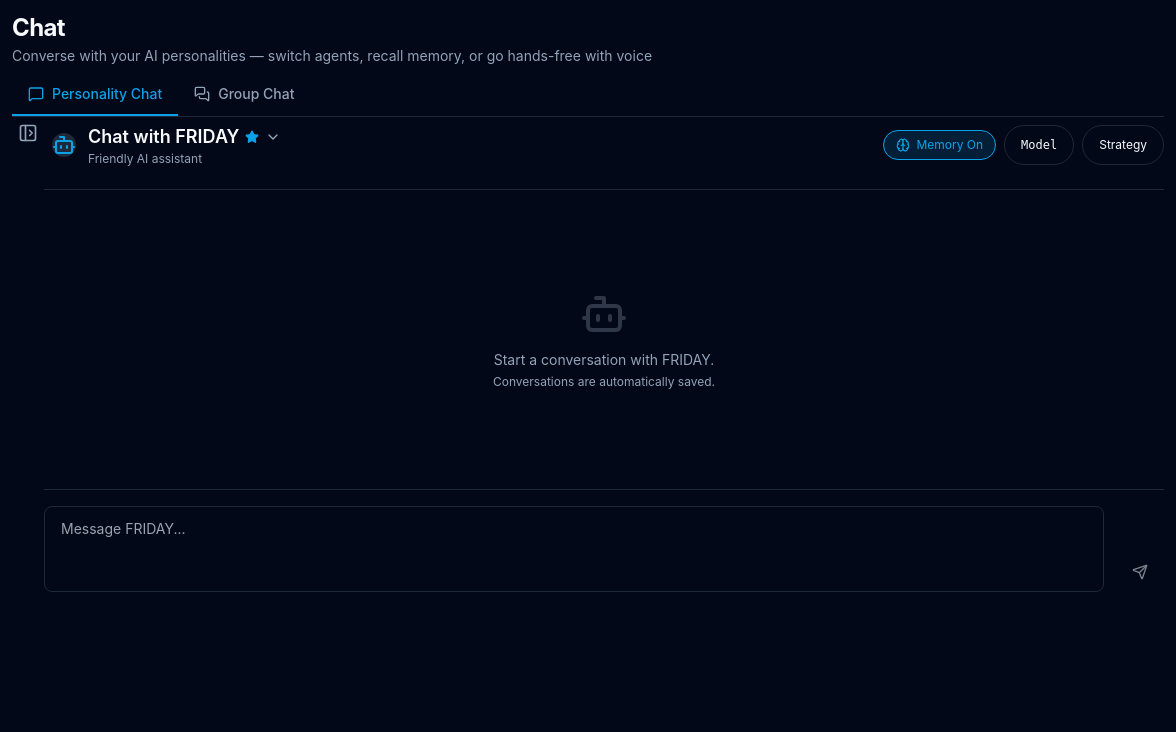
Test: ChatPage › renders conversation list from API
# Open sidebar
Click the button with test id "sidebar-toggle" at {"x": 28, "y": 133}, box top-left (12, 117), bottom-right (44, 149)
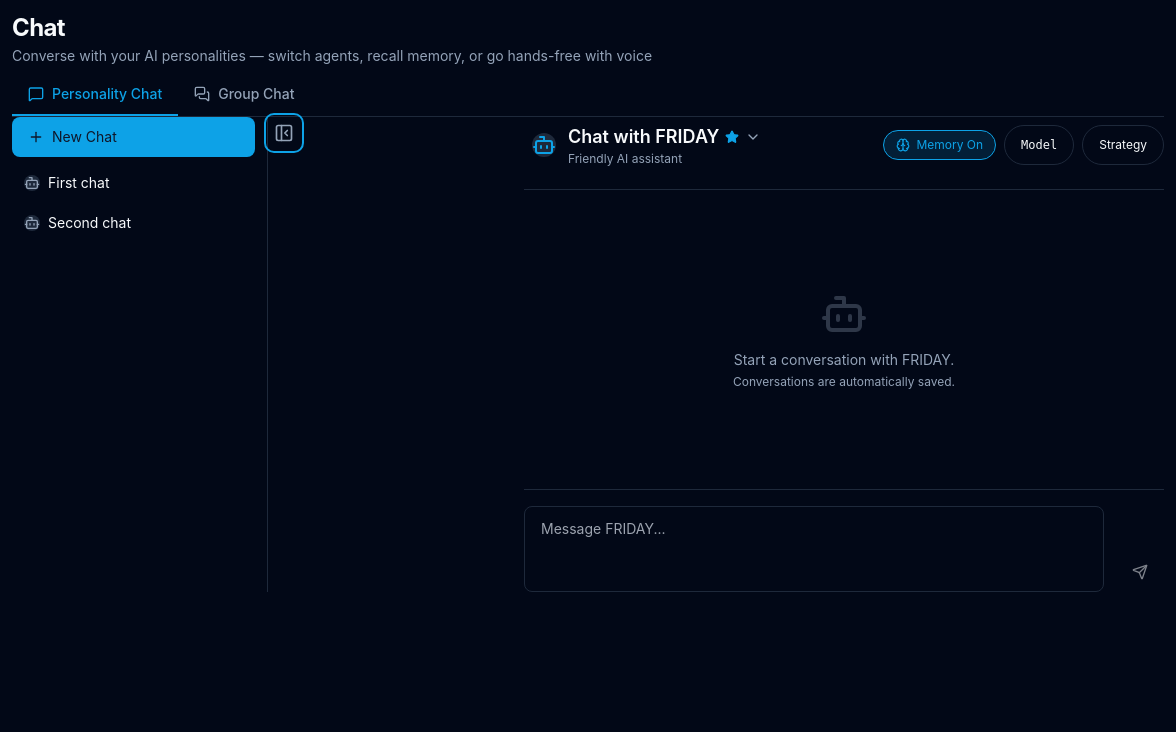
Expected: the text "First chat" is shown, top-left (48, 174), bottom-right (110, 191)
Expected: the text "Second chat" is shown, top-left (48, 214), bottom-right (131, 231)
